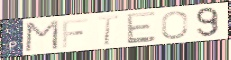9: (195, 6, 221, 39)
E: (125, 10, 158, 46)
F: (60, 17, 90, 49)
M: (23, 18, 60, 53)
O: (160, 10, 190, 41)
T: (97, 13, 121, 47)
